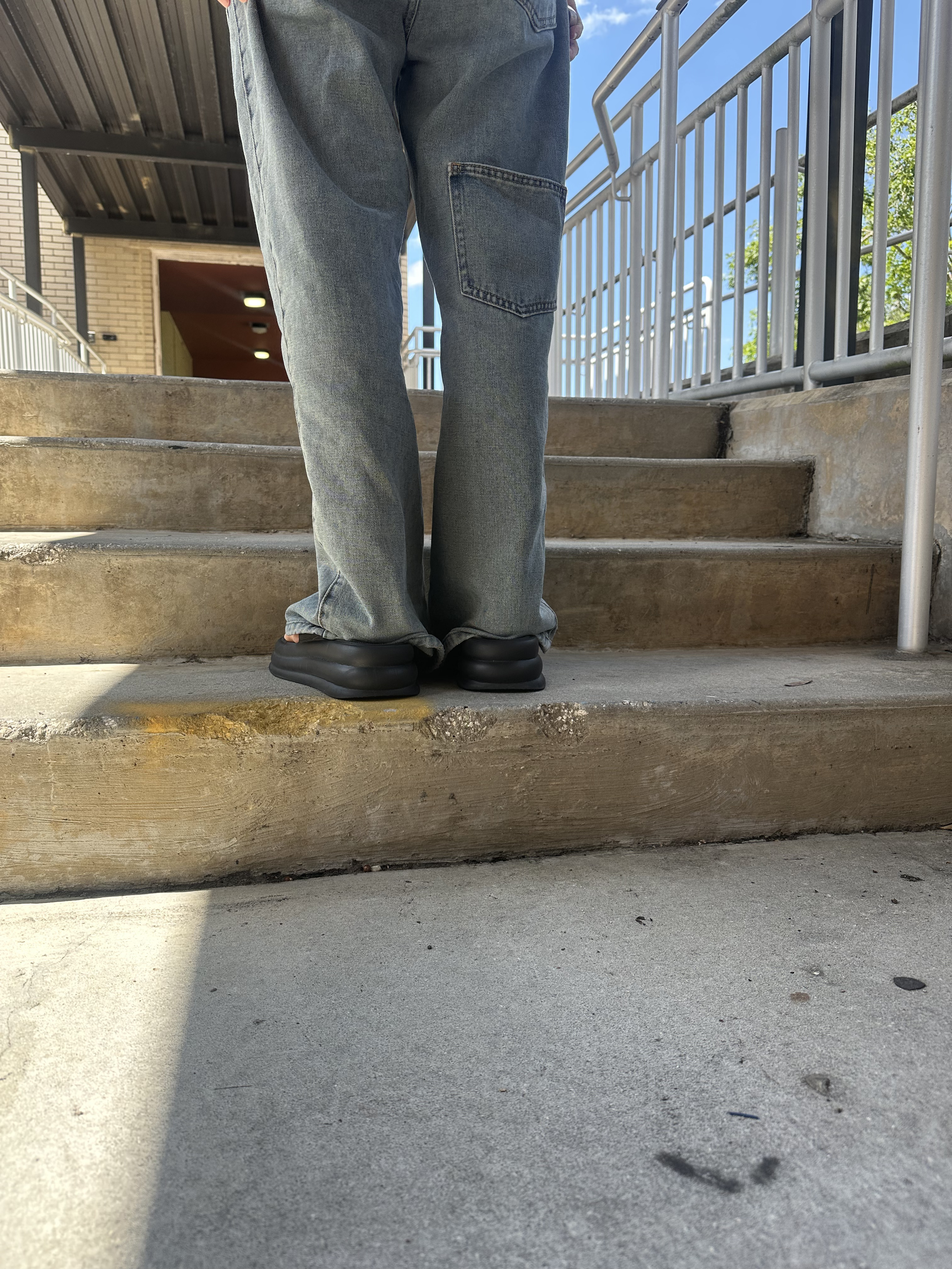stairs: (1, 371, 952, 902)
